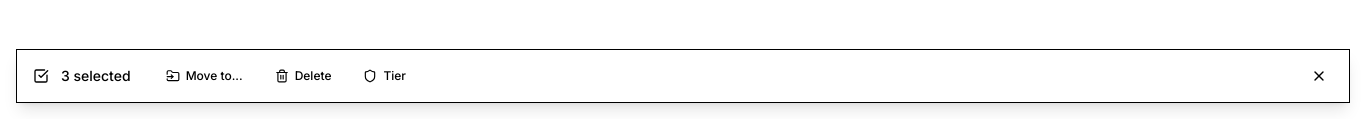
BatchActionBar › "Move to" opens folder picker
This screenshot has width=1366, height=119.
Click the button "Move to..." at (204, 76), box [156,62,253,90]
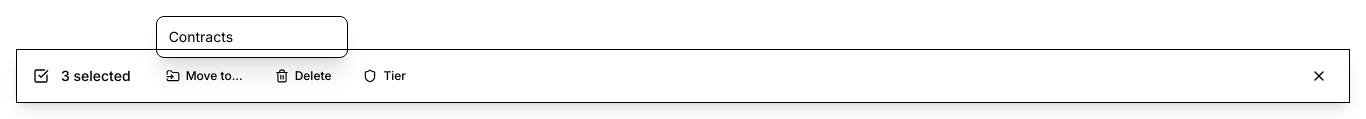
Now the button "Contracts" is shown, box [157,21,347,53]
